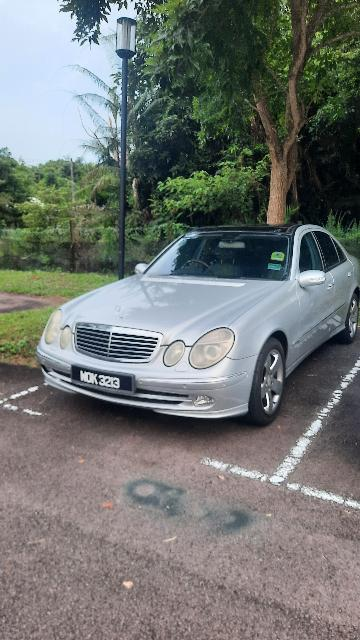License_Plate: (74, 359, 141, 398)
car: (33, 221, 360, 426)
